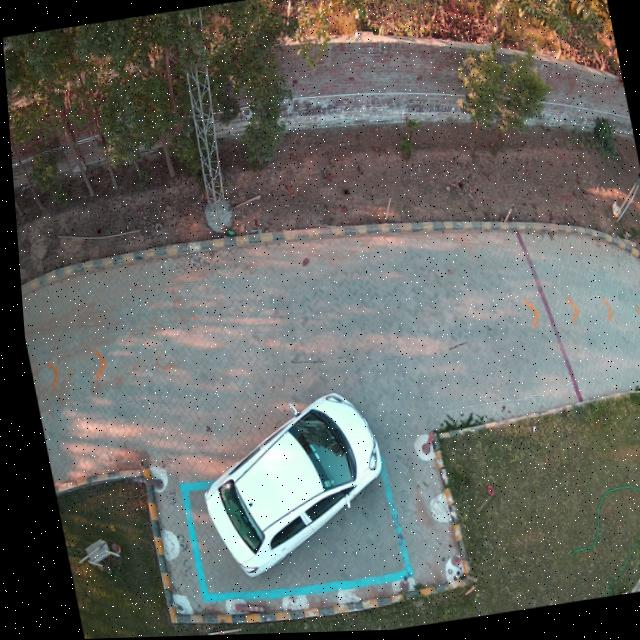car: (195, 396, 375, 580)
